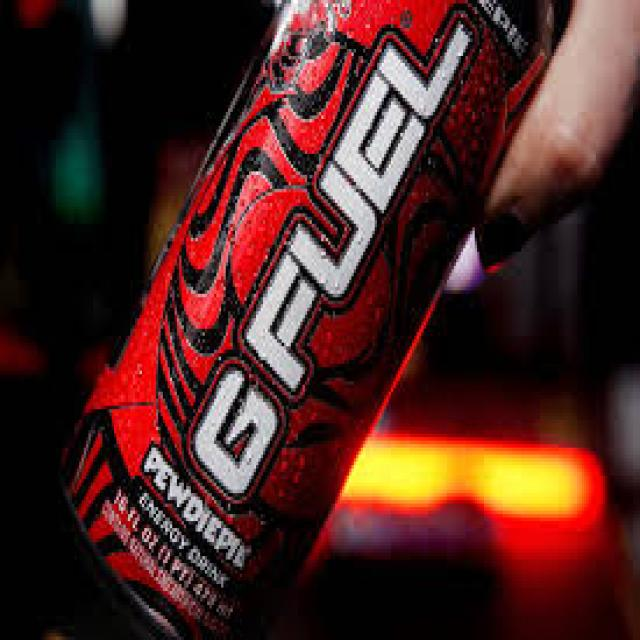Cans: (81, 3, 556, 640)
